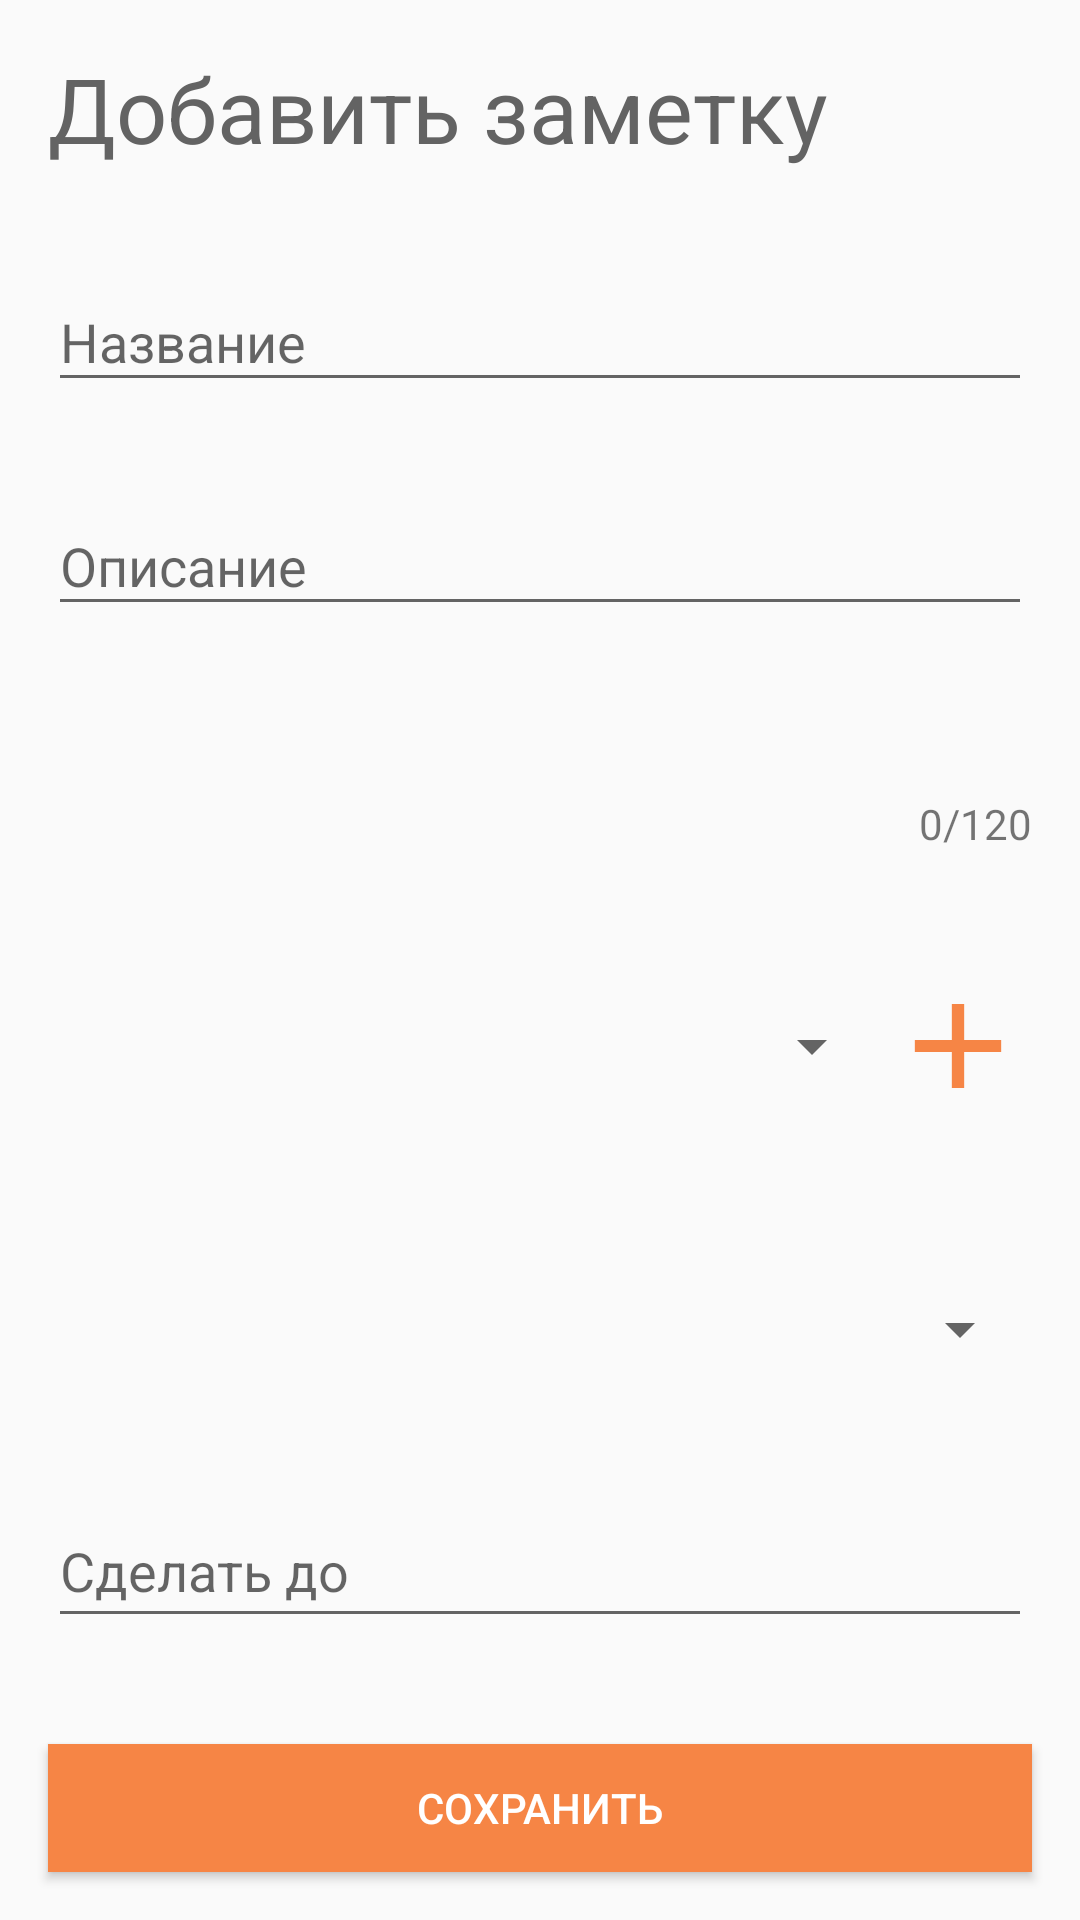

Icons on this 1080×1920 Android screen, each with the point to tap as (x=x, y=y):
add: (x=958, y=1046)
